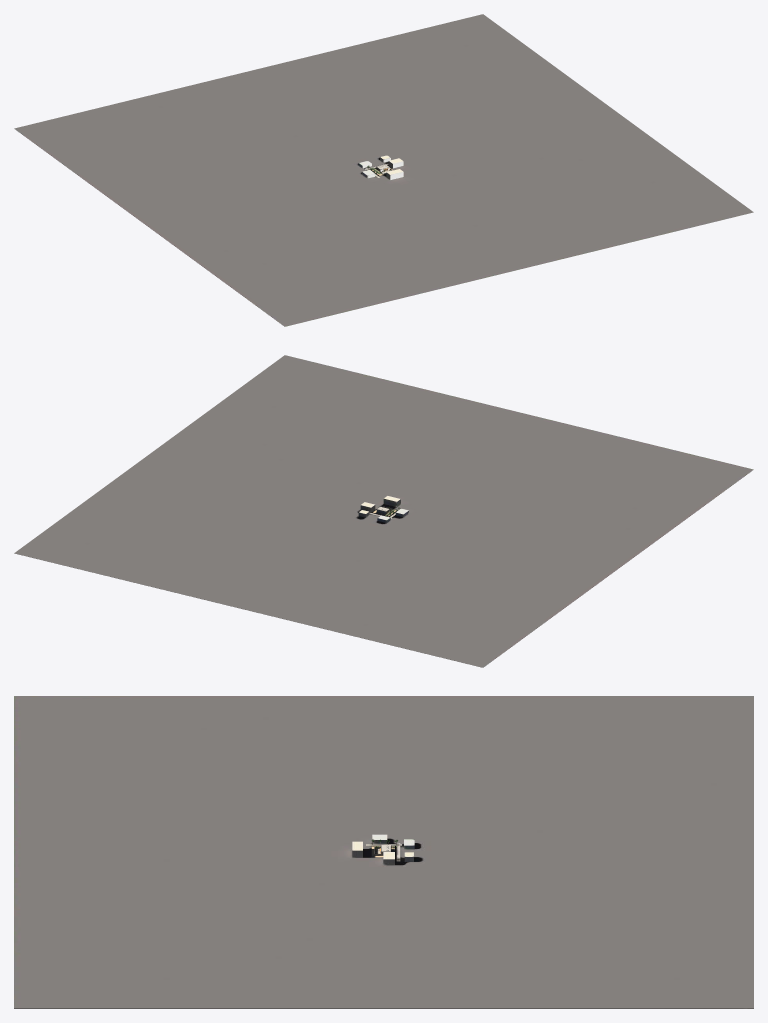
Rendered from courtyard-studio.winter-noon.glb.
3 views of the same model, one above another, from view 1: azimuth 30°, elevation 25°; view 2: azimuth 150°, elevation 25°; view 3: azimuth 270°, elevation 25° (orthographic). The views are drawn at different scales.
Parts seen in each view (by area): view 1: Street and neighbours; view 2: Street and neighbours; view 3: Street and neighbours.
Part boxes in pixels (box(x1,y1,x2,y2)): Street and neighbours: box(14, 14, 753, 326); Street and neighbours: box(14, 355, 753, 667); Street and neighbours: box(14, 696, 753, 1008).
Size of the model in its own units: 700 by 7.59 by 700.
Materials: 12 (9 with a texture image).
